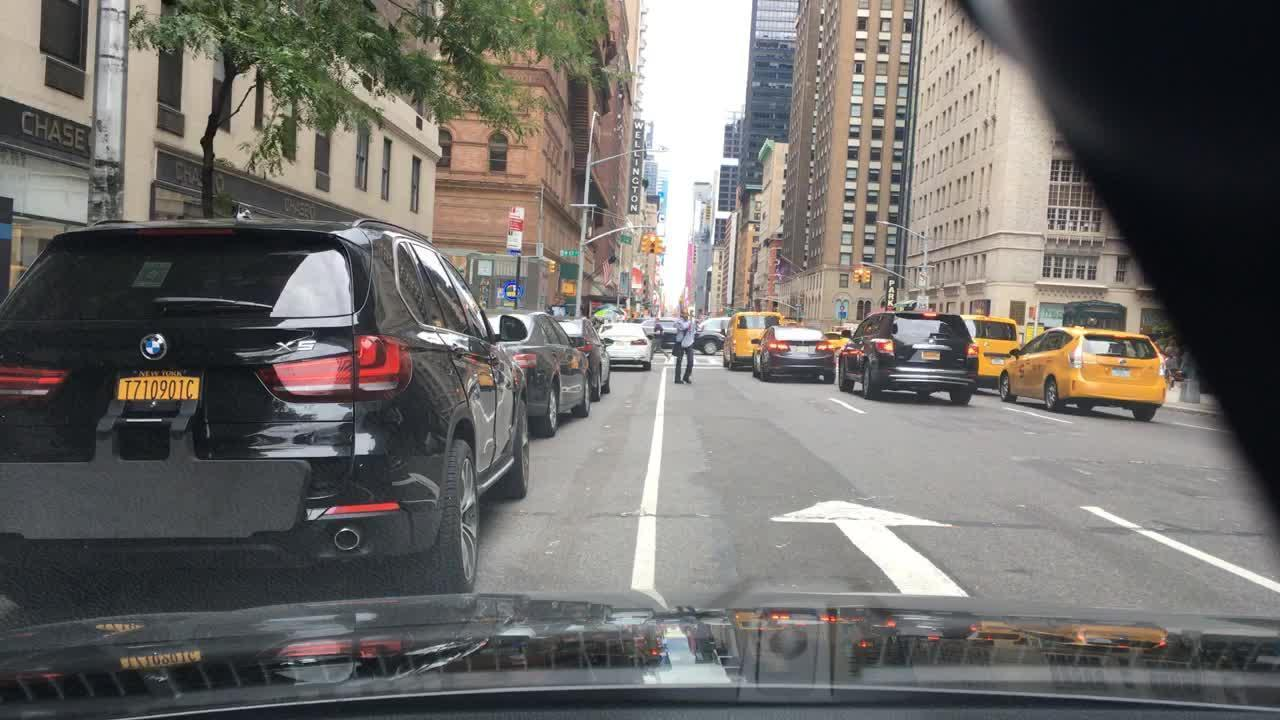Nissan: (1119, 358, 1132, 368)
bmw: (138, 331, 167, 362)
